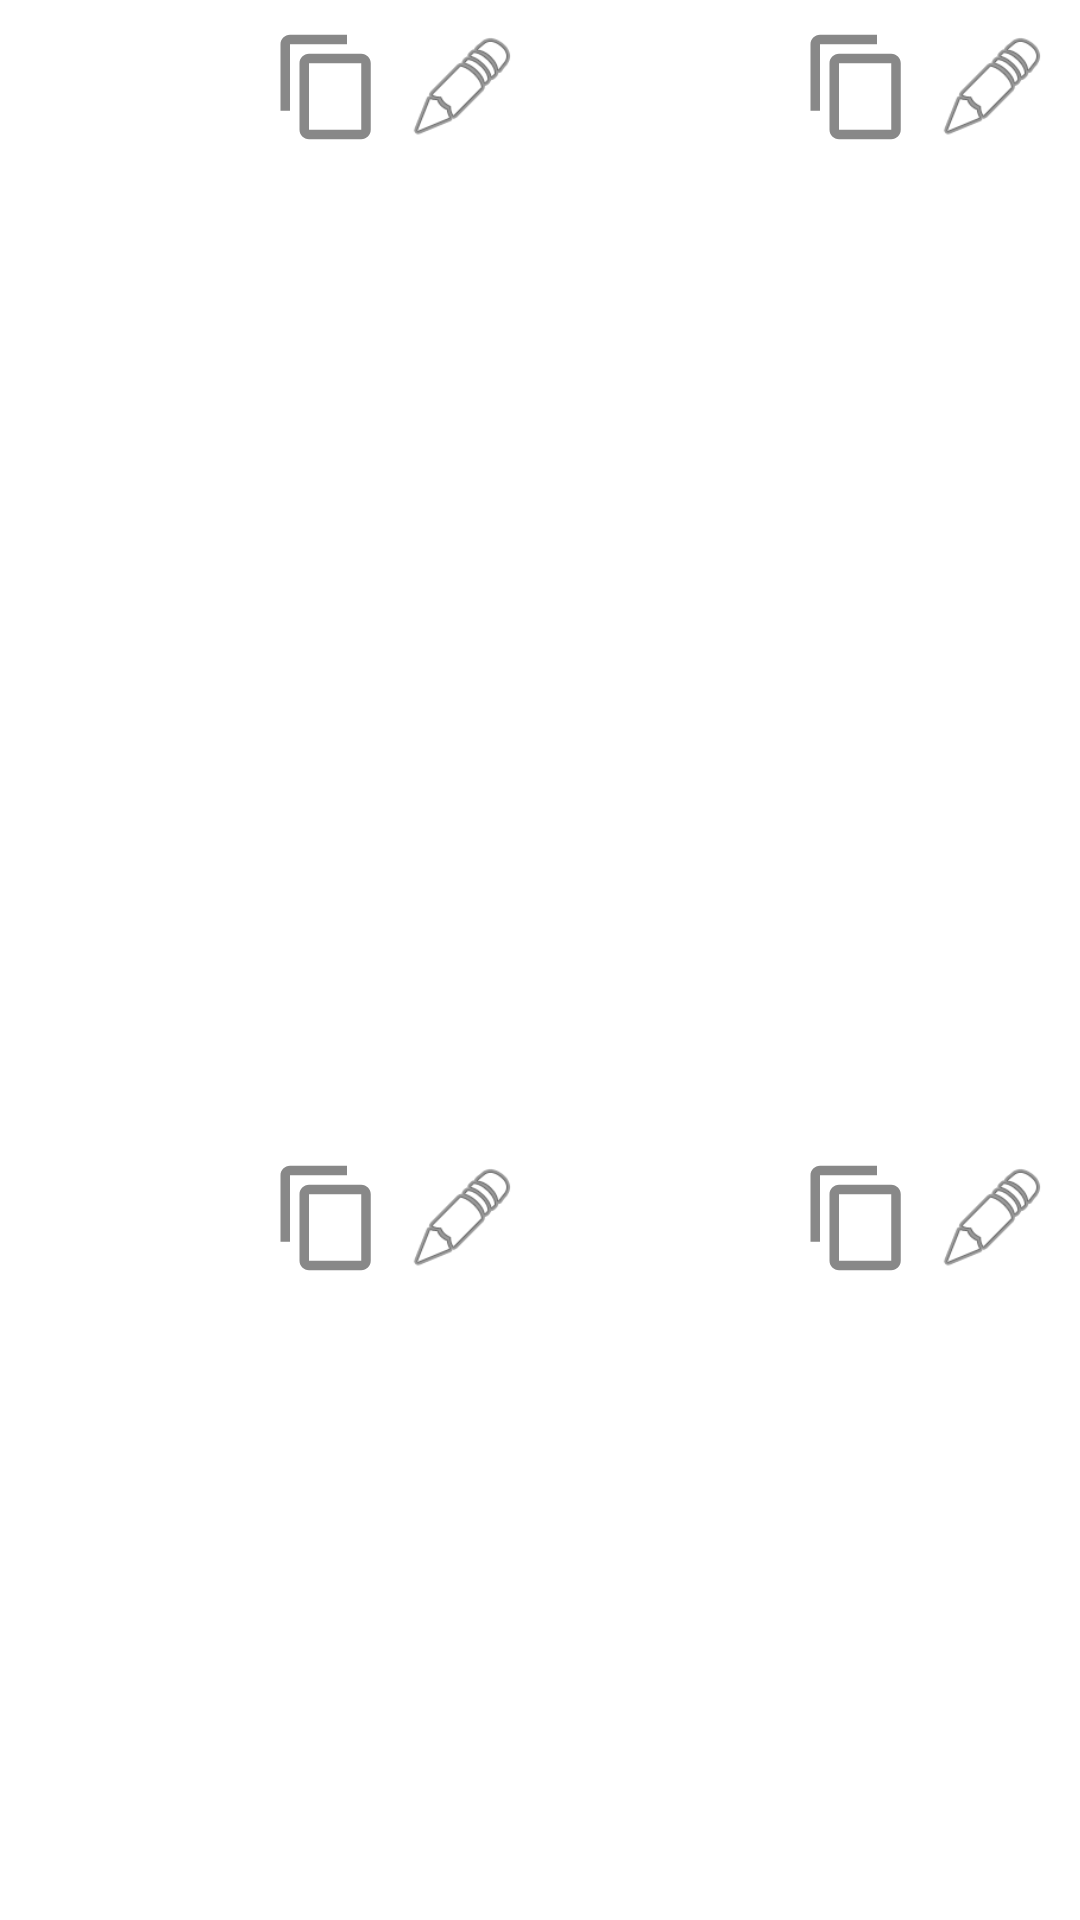

Icon bounding boxes for this 1080*1920 phone screenshot, format (x1, y1, x2, y2):
edit: (414, 38, 510, 135), (944, 38, 1040, 135), (414, 1169, 510, 1266), (944, 1169, 1040, 1266)
